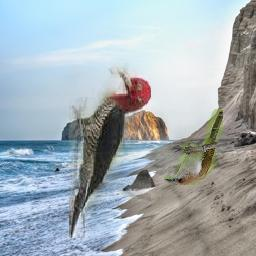Cuckoo: (165, 109, 224, 185)
Woodpecker: (69, 64, 151, 239)
